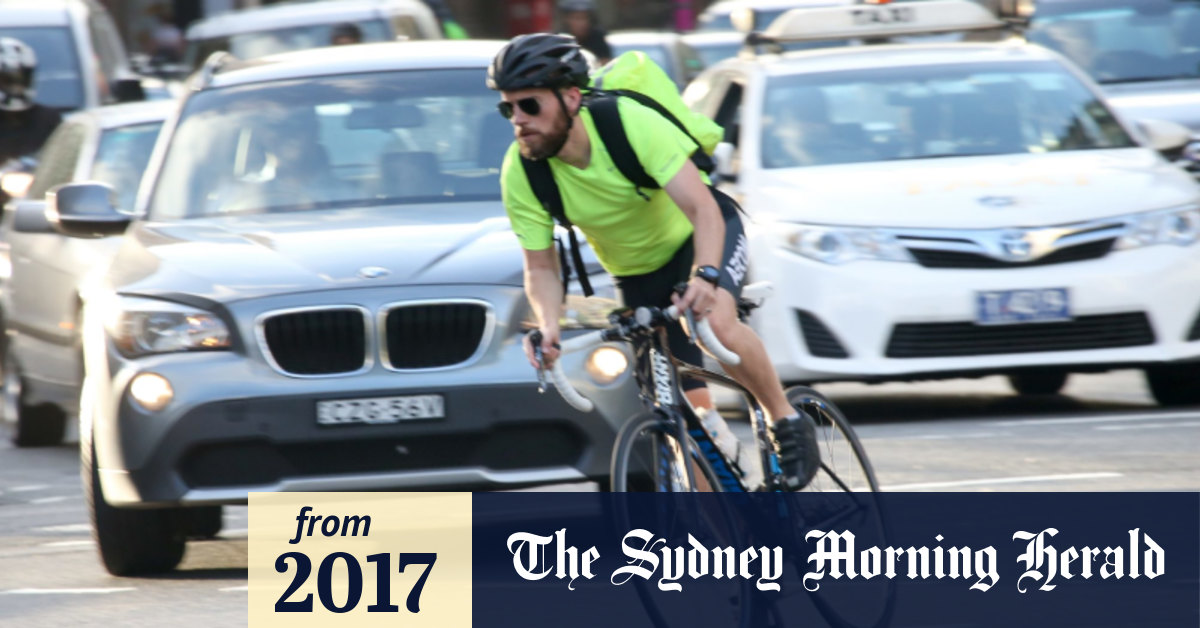helmet: (485, 32, 590, 161)
